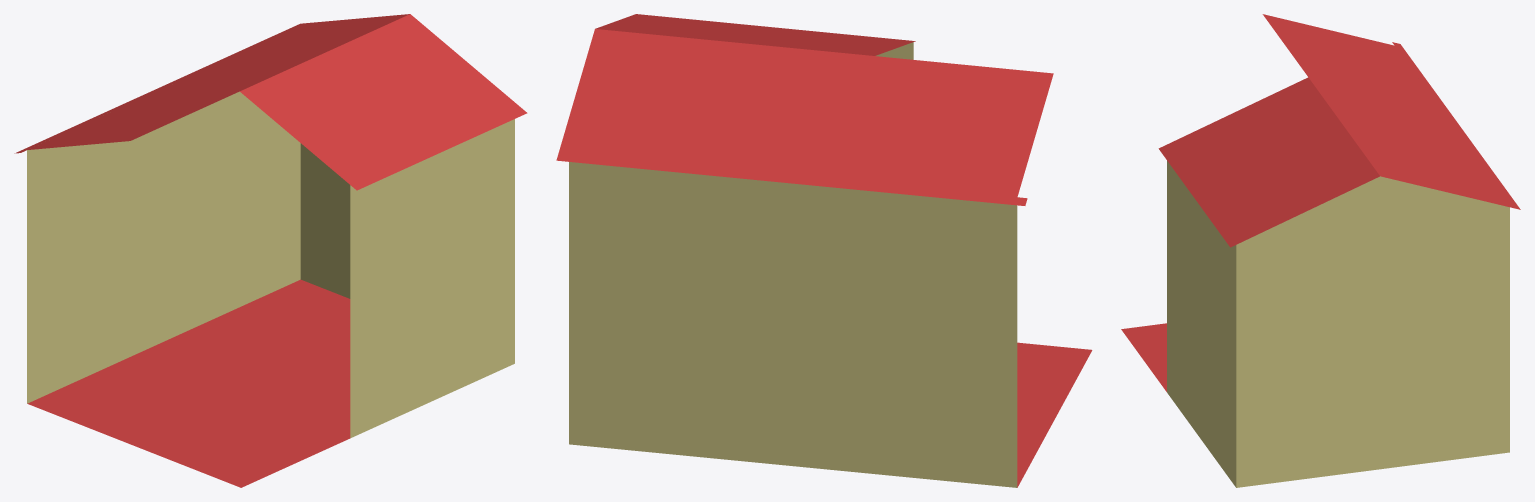
3 renders of one model, left to right at view 1: azimuth 30°, elevation 25°; view 2: azimuth 150°, elevation 25°; view 3: azimuth 270°, elevation 25°, orthographic. The views are drawn at different scales.
Size of the model in its own units: 13.54 by 11.24 by 9.2.
